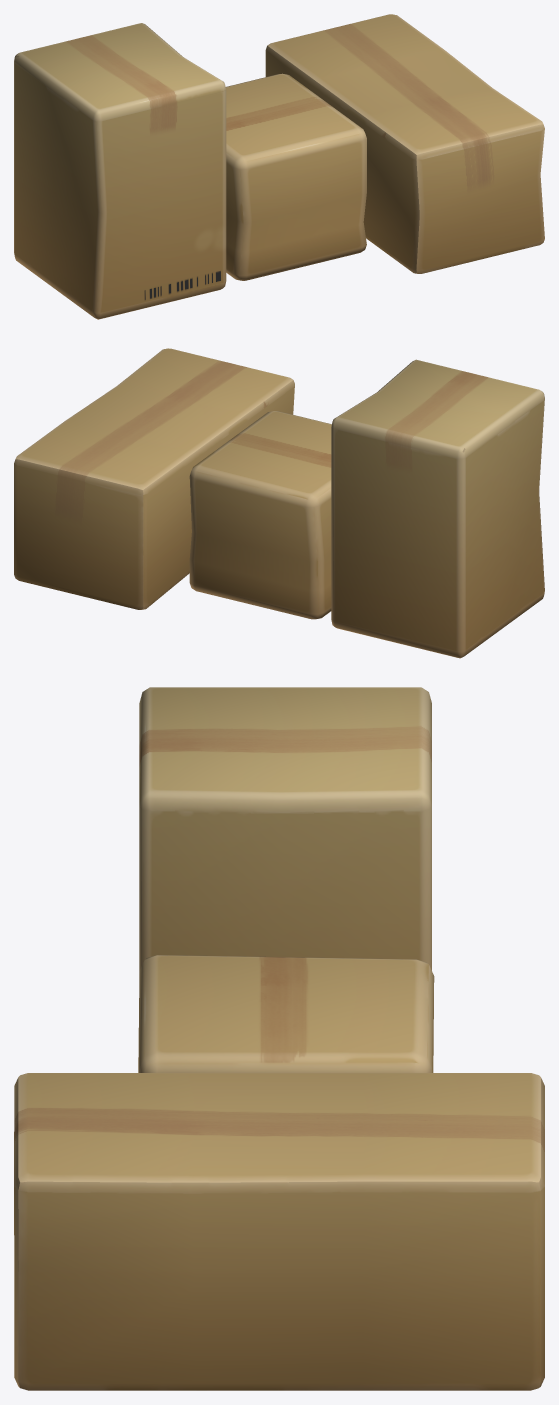
File: Asset_Box.fbx
The picture shows the model from 3 angles, top to bottom: view 1: azimuth 30°, elevation 25°; view 2: azimuth 150°, elevation 25°; view 3: azimuth 270°, elevation 25°; orthographic projection. The views are drawn at different scales.
Visible parts, largest first — view 1: Cube.063, Cube.003, Cube.062; view 2: Cube.063, Cube.003, Cube.062; view 3: Cube.003, Cube.063, Cube.062.
Part boxes in pixels (x1,y1,x2,y2): Cube.063: (14, 23, 226, 319); Cube.003: (265, 14, 544, 273); Cube.062: (225, 73, 366, 280); Cube.063: (331, 359, 544, 658); Cube.003: (14, 348, 294, 609); Cube.062: (189, 411, 331, 619); Cube.003: (14, 1073, 544, 1390); Cube.063: (139, 687, 431, 971); Cube.062: (138, 955, 434, 1072).
Size of the model in its own units: 131 by 63.1 by 83.52.
Materials: 1 (1 with a texture image).
